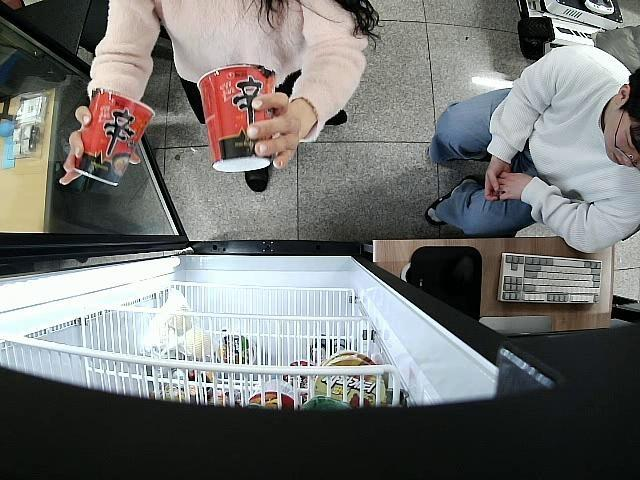02_shinRamen_S: (197, 64, 274, 174), (74, 88, 156, 184)
